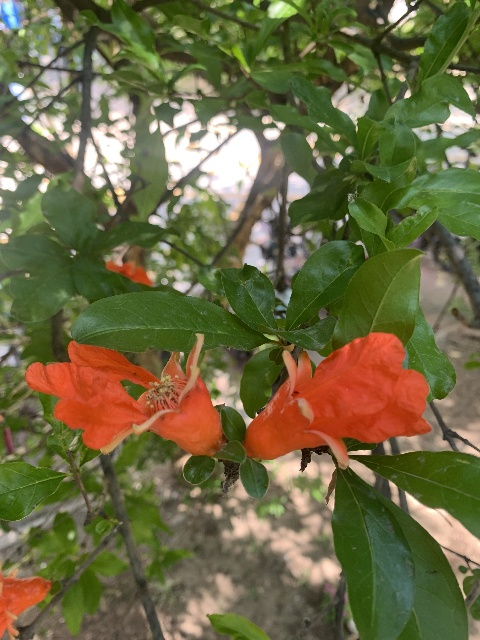flower: (249, 332, 432, 467), (23, 337, 224, 456), (0, 557, 51, 640), (104, 260, 154, 286)
